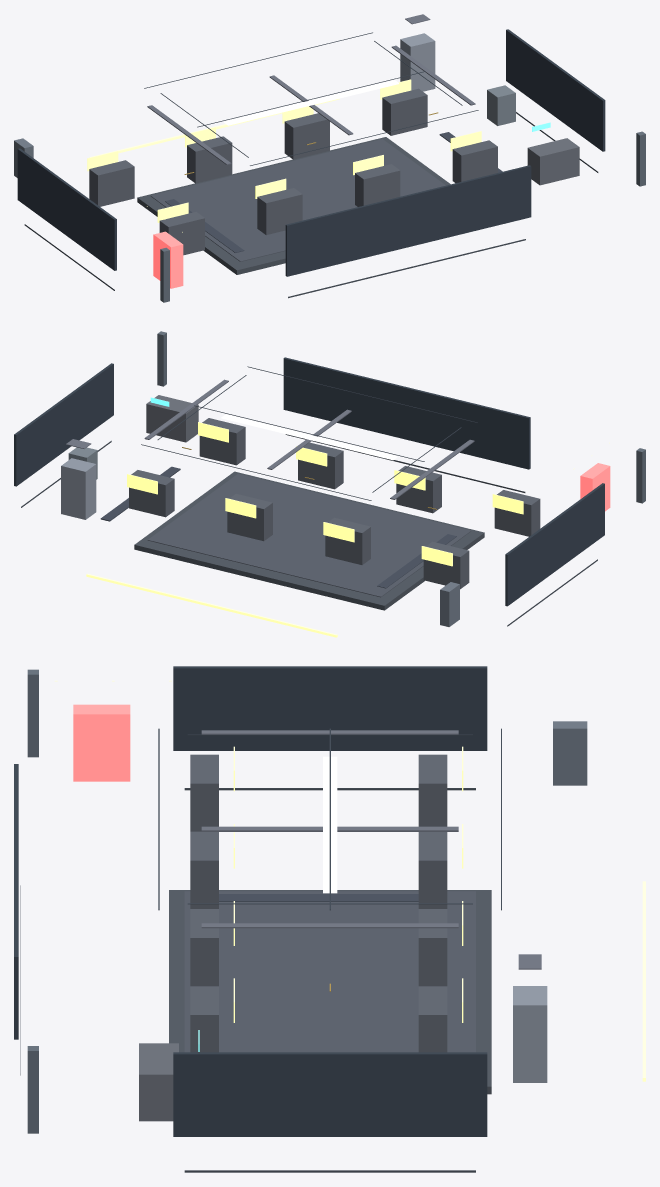
File: floor-power-ops-core.glb
The picture shows the model from 3 angles, top to bottom: view 1: azimuth 30°, elevation 25°; view 2: azimuth 150°, elevation 25°; view 3: azimuth 270°, elevation 25°; orthographic projection. The views are drawn at different scales.
Parts seen in each view (by area): view 1: WallBack_energy, IntFloor_energy, WallL_energy, WallR_energy, Slab_energy, Inverters, Battery_1_3, Battery_1_0, Battery_1_2, Battery_0_1, CoolingUnit, Battery_1_1 (+14 smaller); view 2: IntFloor_energy, WallBack_energy, WallL_energy, WallR_energy, Slab_energy, CoolingUnit, Inverters, Battery_0_3, Battery_0_0, Battery_1_2, Battery_1_1, Battery_1_3 (+17 smaller); view 3: IntFloor_energy, WallR_energy, WallL_energy, Slab_energy, HVPanel, CoolingUnit, Inverters, Battery_1_1, LVPanel, Battery_0_1, Battery_1_2, Battery_0_2 (+14 smaller).
Boxes of the visible parts, box(x1,y1,x2,y2) form: WallBack_energy: box(285, 165, 531, 276); IntFloor_energy: box(151, 139, 445, 261); WallL_energy: box(17, 148, 116, 270); WallR_energy: box(506, 29, 605, 151); Slab_energy: box(137, 137, 450, 274); Inverters: box(527, 138, 579, 185); Battery_1_3: box(382, 88, 427, 135); Battery_1_0: box(89, 160, 134, 206); Battery_1_2: box(284, 113, 329, 159); Battery_0_1: box(257, 188, 302, 234); CoolingUnit: box(400, 33, 435, 91); Battery_1_1: box(187, 136, 232, 183); IntFloor_energy: box(147, 474, 470, 597); WallBack_energy: box(283, 357, 530, 469); WallL_energy: box(505, 483, 604, 606); WallR_energy: box(14, 363, 113, 486); Slab_energy: box(134, 471, 484, 610); CoolingUnit: box(61, 458, 96, 519); Inverters: box(146, 395, 198, 442); Battery_0_3: box(199, 418, 245, 465); Battery_0_0: box(494, 490, 540, 536); Battery_1_2: box(227, 494, 272, 541); Battery_1_1: box(325, 517, 370, 564); Battery_1_3: box(129, 470, 174, 517); IntFloor_energy: box(184, 891, 475, 1052); WallR_energy: box(173, 1052, 487, 1136); WallL_energy: box(173, 666, 487, 750); Slab_energy: box(169, 890, 491, 1094); HVPanel: box(73, 704, 130, 781); CoolingUnit: box(513, 986, 547, 1082); Inverters: box(139, 1043, 178, 1121); Battery_1_1: box(418, 832, 447, 908); LVPanel: box(553, 721, 587, 785); Battery_0_1: box(190, 831, 218, 908); Battery_1_2: box(418, 909, 447, 986); Battery_0_2: box(190, 909, 218, 986).
Size of the model in its own units: 16.08 by 3.42 by 11.07.
